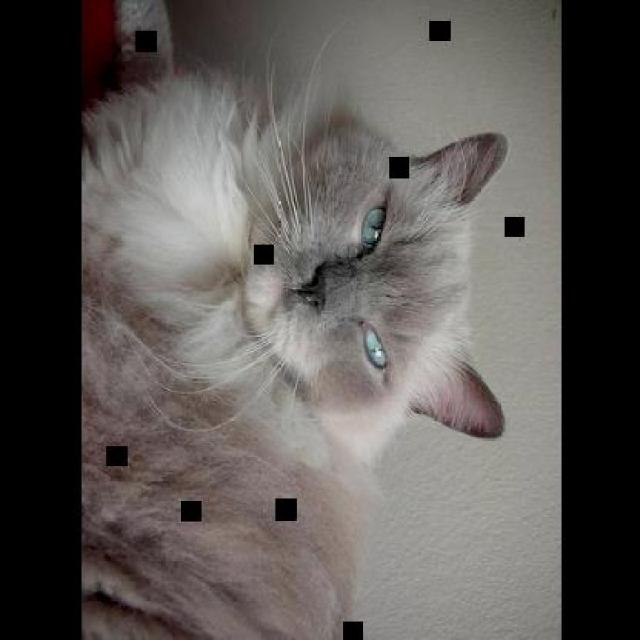unauthorized: (80, 20, 508, 638)
